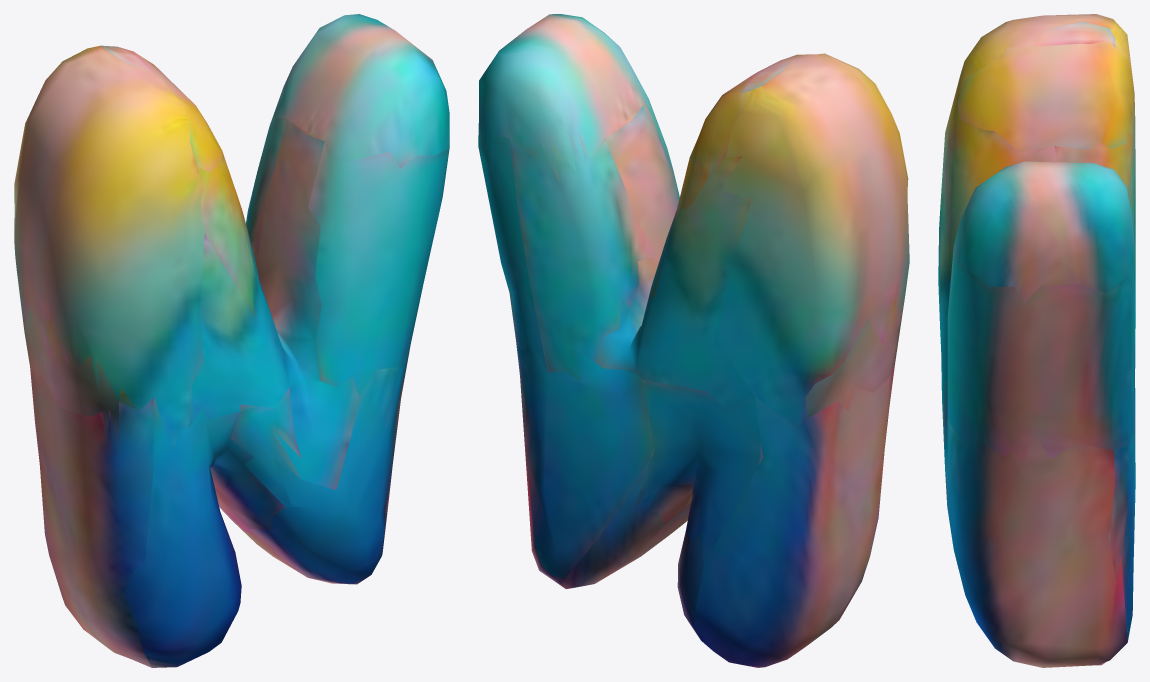
The picture shows the model from 3 angles, left to right: view 1: azimuth 30°, elevation 25°; view 2: azimuth 150°, elevation 25°; view 3: azimuth 270°, elevation 25°; orthographic projection. The views are drawn at different scales.
Parts seen in each view (by area): view 1: Candy-Letter-N; view 2: Candy-Letter-N; view 3: Candy-Letter-N.
Boxes of the visible parts, x1,y1,x2,y2 form: Candy-Letter-N: (14,14,449,667); Candy-Letter-N: (478,14,909,667); Candy-Letter-N: (938,14,1135,667).
Size of the model in its own units: 0.2479 by 0.3621 by 0.1119.
Materials: 1 (1 with a texture image).
